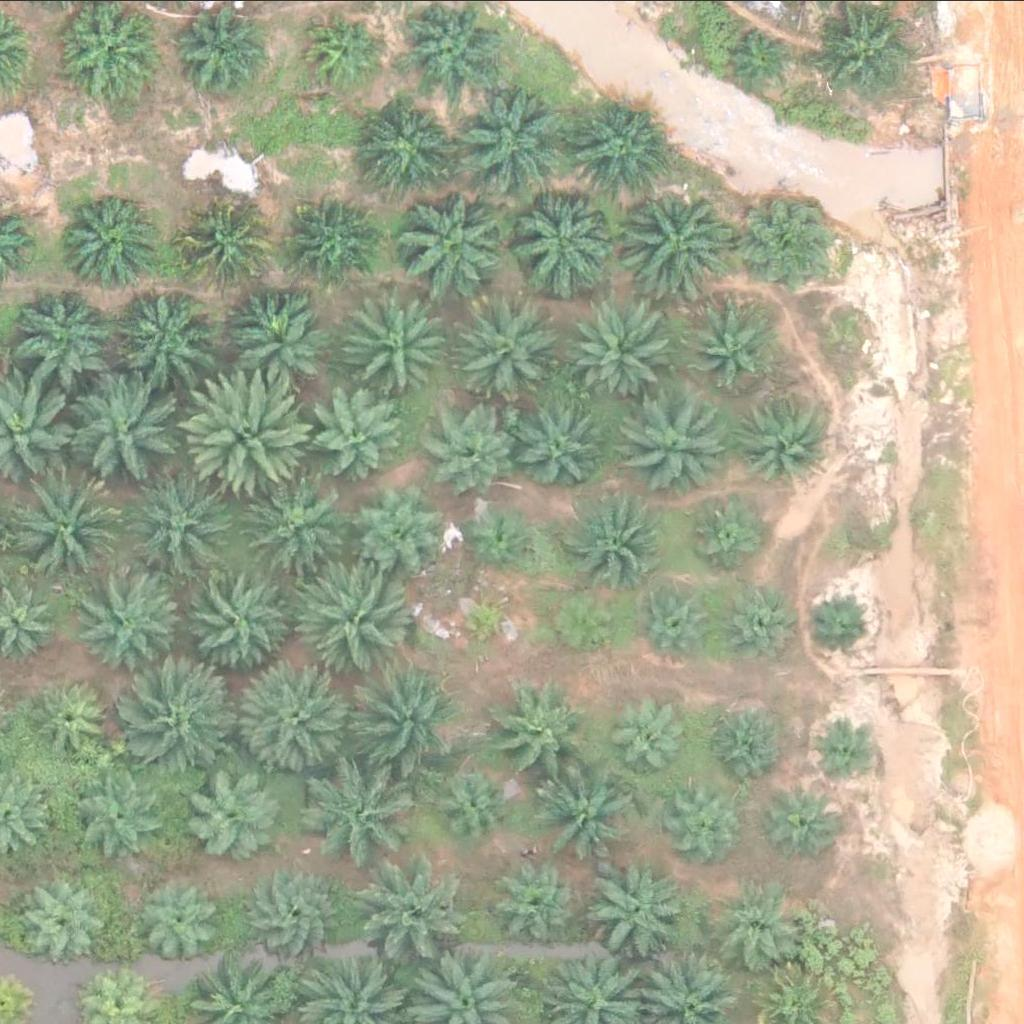Kelapa_Sawit: (185, 365, 311, 490), (63, 375, 177, 488), (451, 86, 564, 199), (395, 185, 508, 298), (506, 181, 619, 294), (11, 473, 124, 586), (123, 469, 236, 582), (178, 562, 291, 675), (239, 665, 352, 778), (341, 666, 455, 778), (618, 183, 731, 295), (79, 570, 192, 682), (296, 565, 409, 677), (130, 668, 243, 780), (347, 855, 460, 967), (572, 100, 673, 200), (56, 188, 157, 288), (745, 192, 846, 292), (115, 281, 216, 381), (352, 295, 453, 395), (464, 300, 565, 400), (572, 304, 673, 404), (244, 478, 345, 578), (345, 476, 446, 576), (493, 684, 594, 784), (542, 770, 643, 870), (314, 770, 415, 870), (590, 860, 691, 960), (559, 485, 660, 585), (22, 286, 122, 386), (222, 296, 322, 396), (624, 393, 724, 493), (180, 763, 280, 863), (248, 865, 348, 965), (174, 12, 262, 100), (369, 101, 457, 189), (180, 201, 268, 289), (432, 408, 520, 496), (715, 583, 803, 671), (29, 675, 117, 763), (431, 761, 519, 849), (22, 880, 110, 968), (519, 406, 608, 493), (79, 776, 168, 863), (288, 199, 376, 286), (690, 299, 778, 386), (739, 397, 827, 484), (312, 391, 400, 478), (634, 574, 722, 661), (138, 879, 226, 966), (500, 857, 588, 944), (720, 880, 808, 967), (617, 703, 693, 778), (705, 701, 781, 776), (465, 502, 541, 577), (305, 13, 381, 88), (552, 583, 628, 658), (687, 495, 762, 570), (672, 783, 747, 858), (772, 785, 847, 860), (729, 19, 804, 94), (813, 724, 876, 787), (809, 592, 872, 654), (453, 589, 516, 651)
